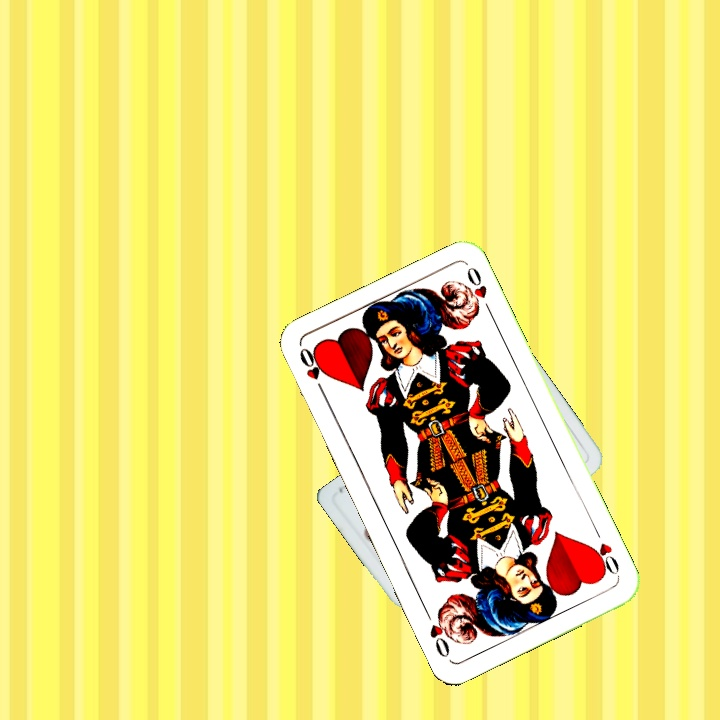HO: (587, 524, 622, 579), (295, 343, 329, 399)
